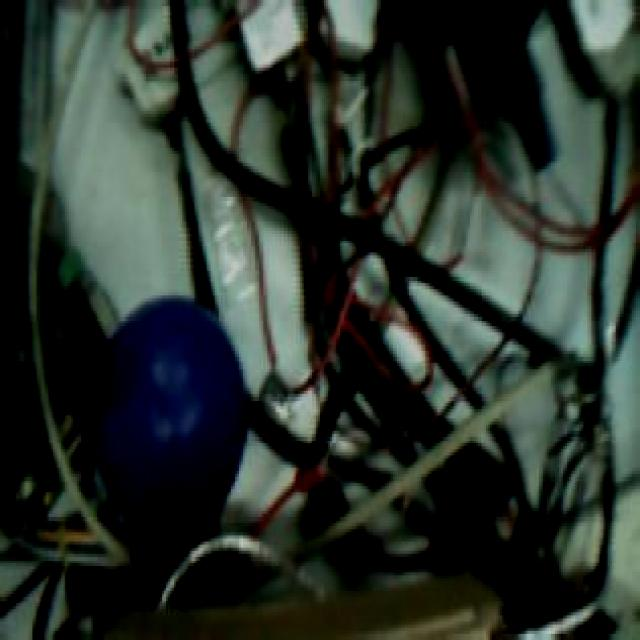BallPurple: (90, 292, 248, 538)
